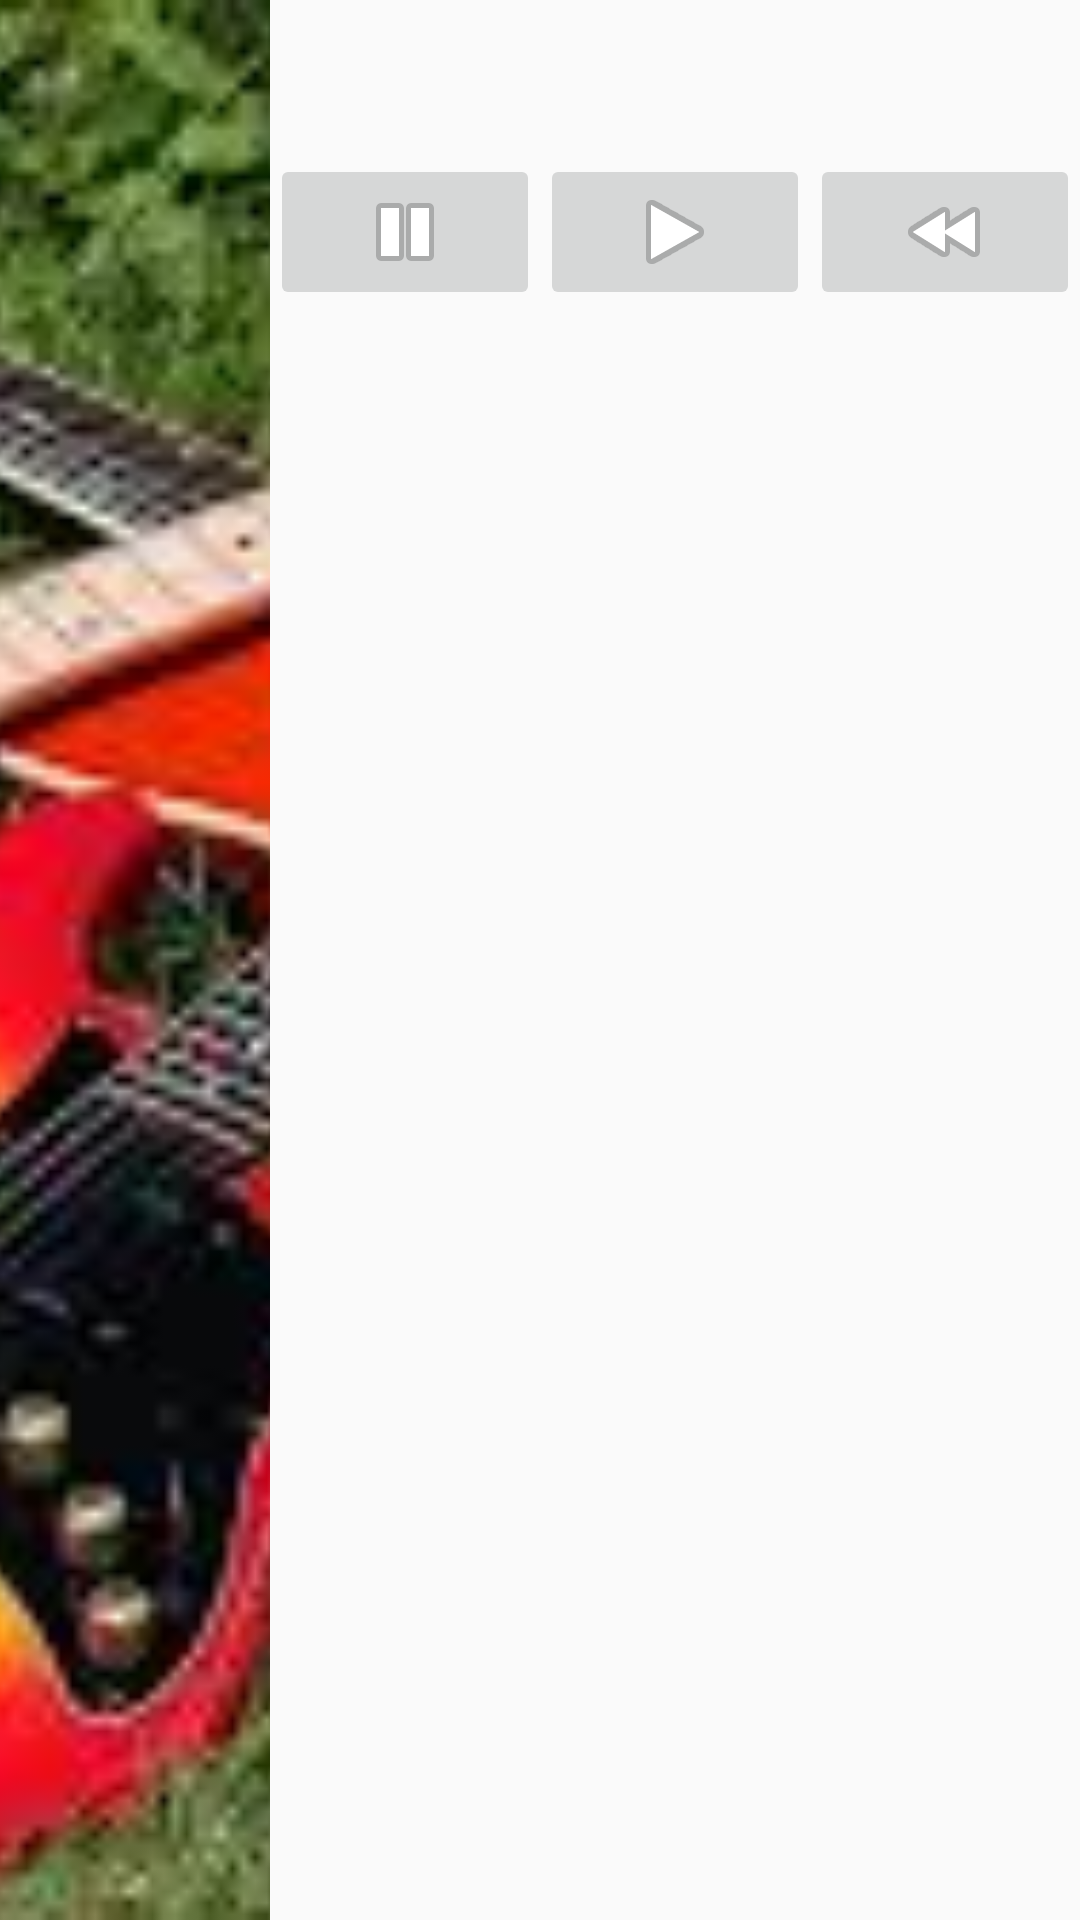

Screen size 1080 x 1920. Icon name, then its box in pixels as detection(x1, y1, x2, y2):
pause: detection(282, 172, 528, 292)
play: detection(552, 172, 798, 292)
rew: detection(822, 172, 1068, 292)
